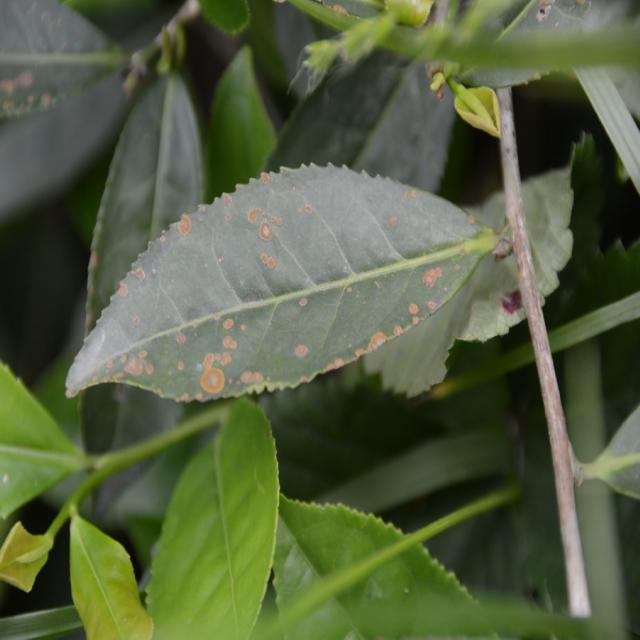Tea algae leaf spot: (119, 185, 473, 388)
